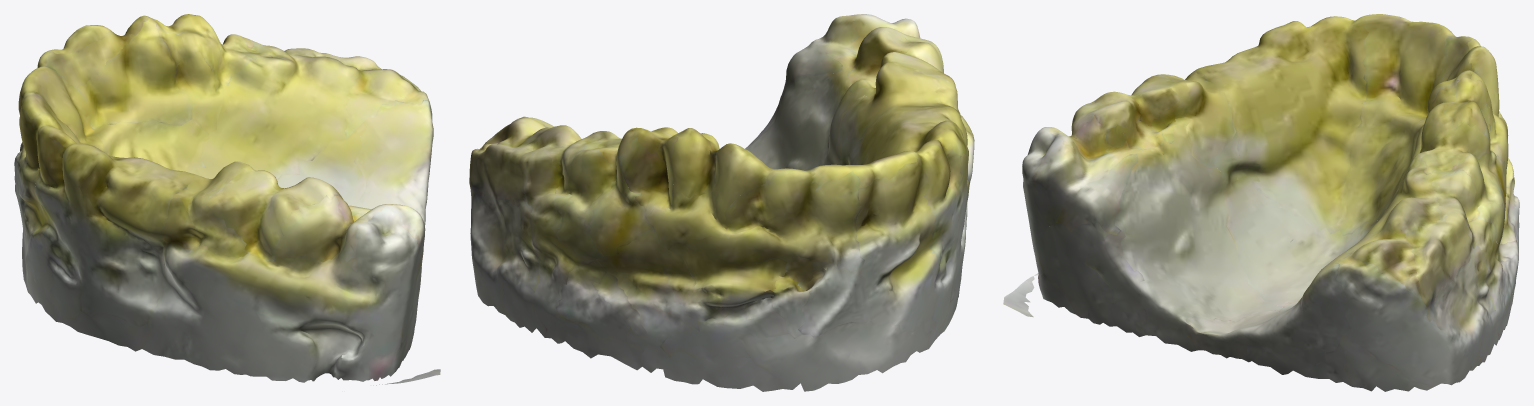
Rendered from arcada-superior.glb.
3 views of the same model, side by side, from view 1: azimuth 30°, elevation 25°; view 2: azimuth 150°, elevation 25°; view 3: azimuth 270°, elevation 25° (orthographic). The views are drawn at different scales.
Visible parts, largest first — view 1: arcada-superior; view 2: arcada-superior; view 3: arcada-superior.
Boxes of the visible parts, left/top/right/bottom form: arcada-superior: left=14, top=14, right=440, bottom=385; arcada-superior: left=469, top=14, right=974, bottom=391; arcada-superior: left=1003, top=14, right=1519, bottom=391.
Bounding box in the file's own units: 1.94 × 1 × 2.14.
Materials: 1 (1 with a texture image).
